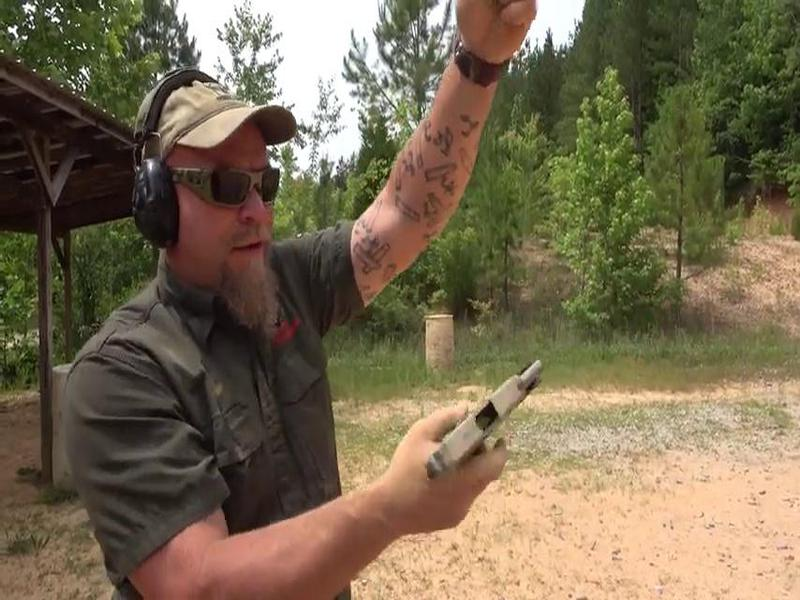Pistola: (375, 334, 561, 521)
